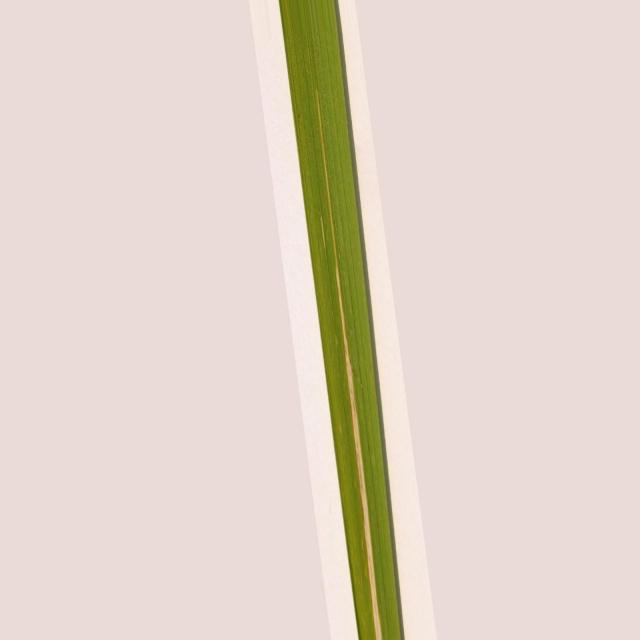Bacterial_Leaf_Blight: (335, 265, 382, 640)
